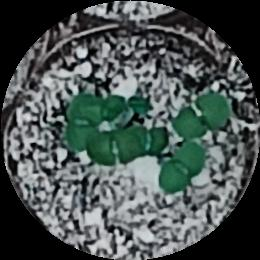Basil: (160, 143, 203, 197), (178, 96, 227, 136), (90, 130, 140, 166), (66, 96, 99, 150), (107, 92, 151, 116), (135, 126, 170, 154)
